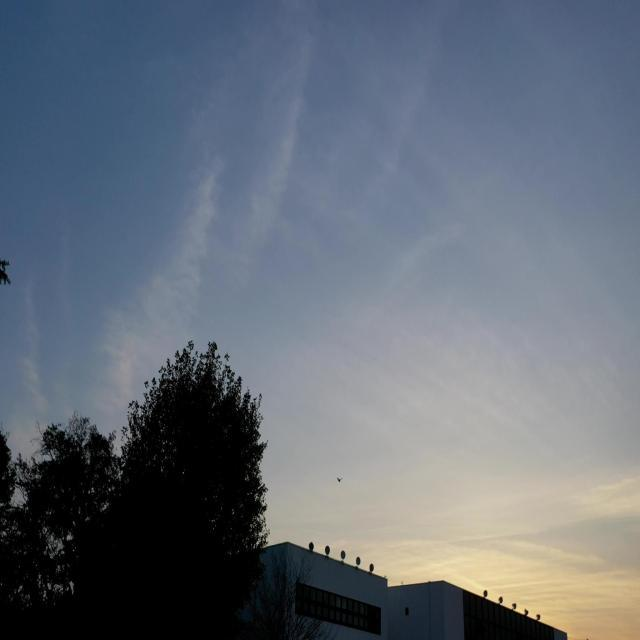Birds: (332, 474, 347, 490)
